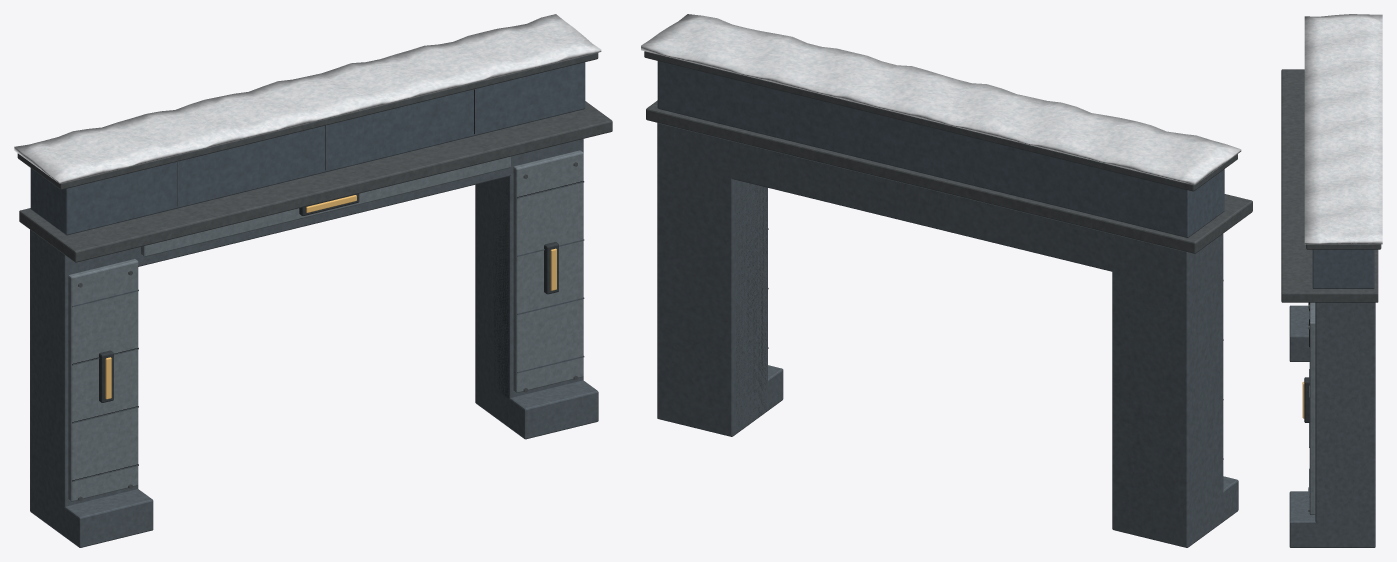
Rendered from SF_Portal_20.glb.
3 renders of one model, left to right at view 1: azimuth 30°, elevation 25°; view 2: azimuth 150°, elevation 25°; view 3: azimuth 270°, elevation 25°, orthographic. The views are drawn at different scales.
Parts seen in each view (by area): view 1: SF_Portal_20; view 2: SF_Portal_20; view 3: SF_Portal_20.
Boxes of the visible parts, x1,y1,x2,y2 form: SF_Portal_20: [14, 14, 612, 547]; SF_Portal_20: [641, 14, 1252, 547]; SF_Portal_20: [1281, 14, 1382, 547].
Size of the model in its own units: 29.2 by 19.03 by 5.53.
Materials: 1 (1 with a texture image).
